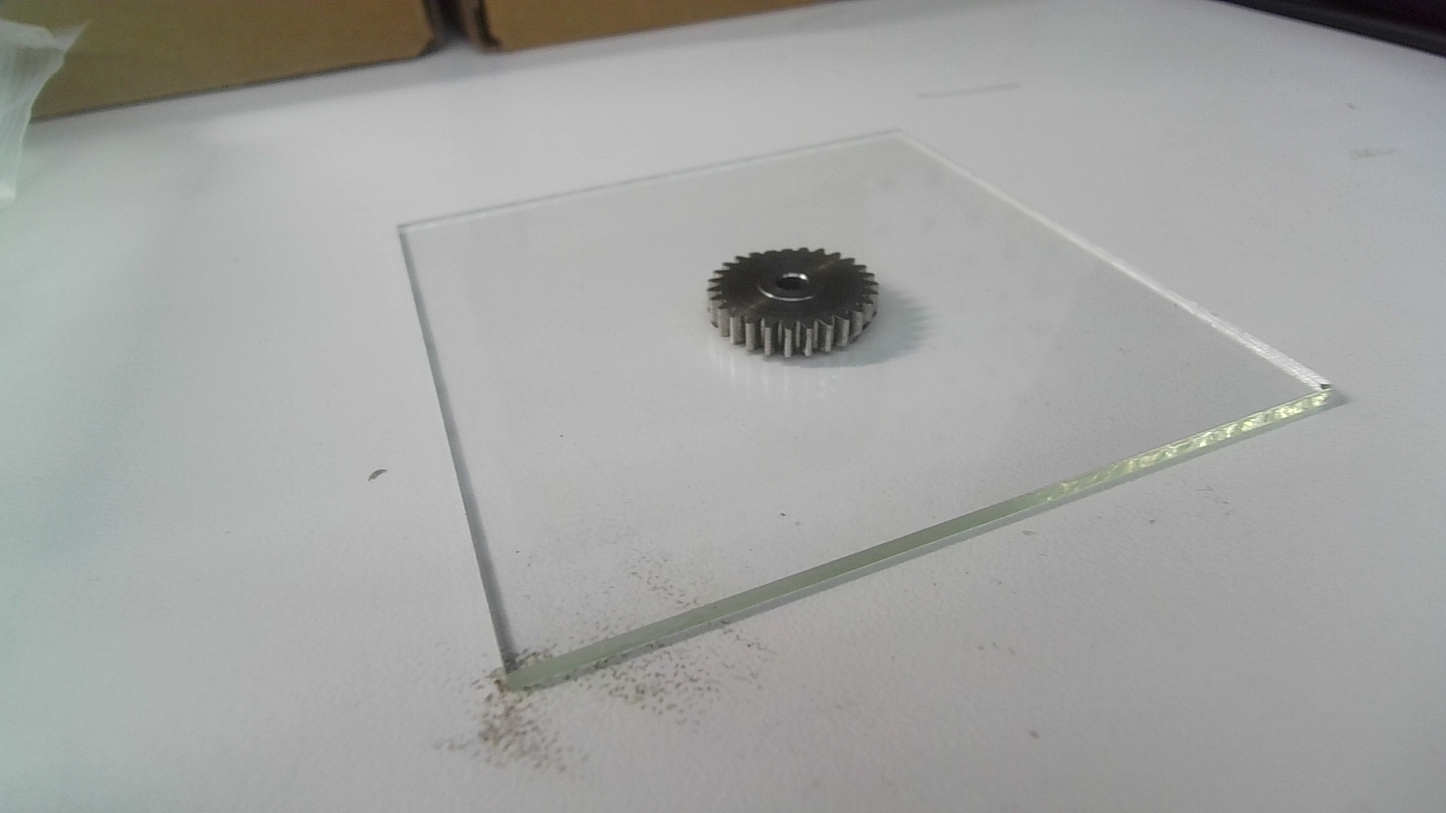gear: (703, 244, 883, 363)
